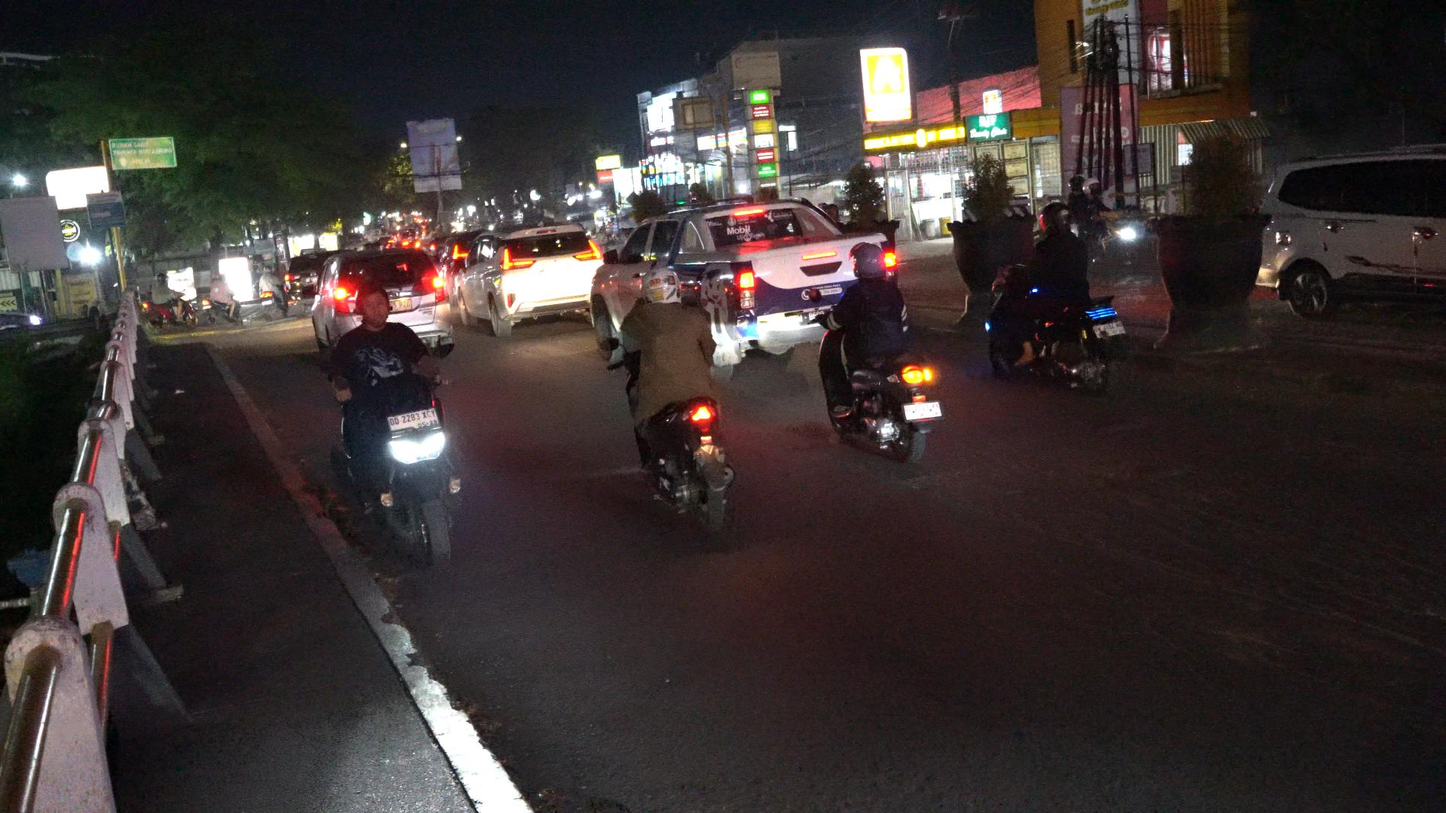number-plate: (386, 407, 443, 434)
